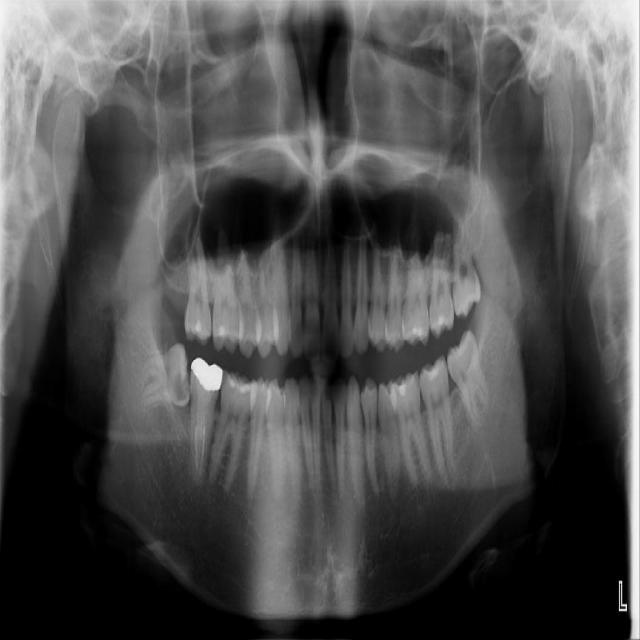Caries: (173, 376, 190, 401)
Crown: (191, 356, 223, 393)
Filling: (389, 374, 416, 408), (227, 374, 252, 396), (431, 310, 450, 338), (214, 322, 235, 346), (406, 323, 427, 344), (422, 359, 443, 380), (189, 320, 208, 342)
Root Canal Treatment: (193, 406, 199, 468), (199, 408, 204, 470)
impacted tooth: (444, 329, 489, 430), (137, 343, 187, 409)
